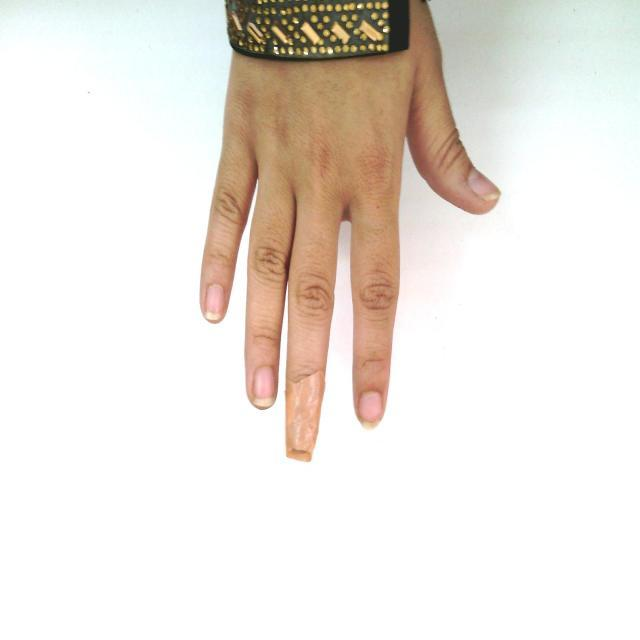Fingernail: (467, 168, 502, 202), (253, 366, 276, 407), (359, 391, 383, 429), (206, 284, 225, 321)
